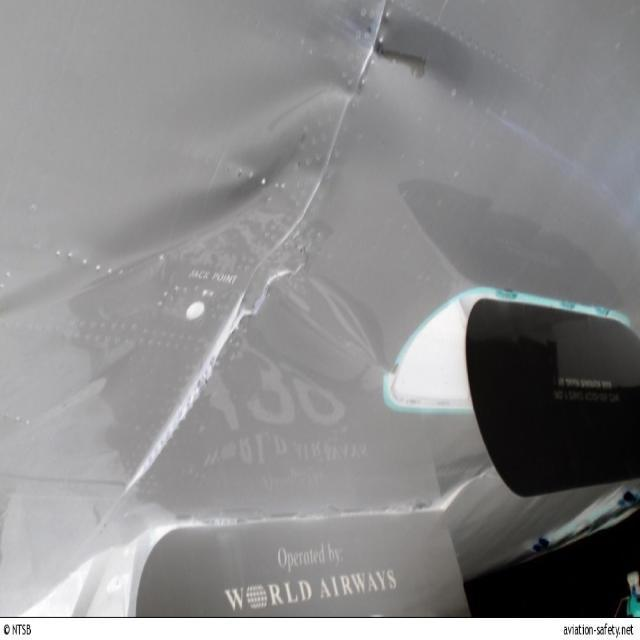crack: (227, 261, 304, 334)
dent: (1, 166, 280, 315), (236, 65, 355, 142)
